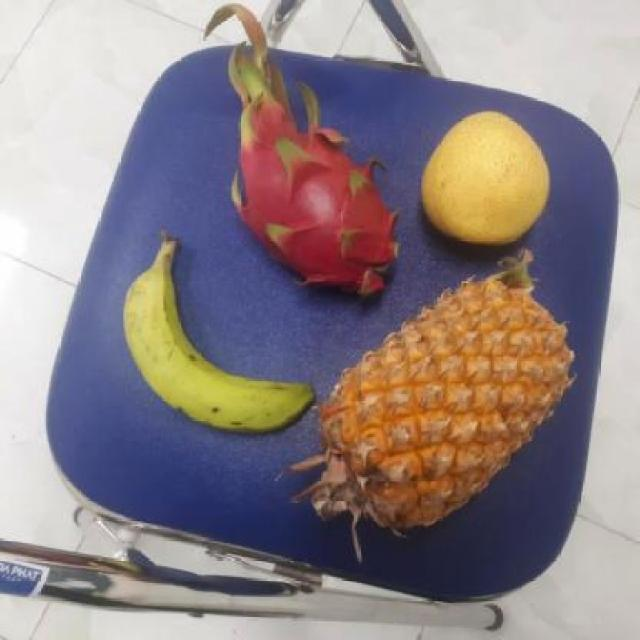banana: (119, 240, 312, 432)
dragon fruit: (228, 112, 402, 300)
pear: (412, 113, 554, 249)
pineapple: (304, 274, 554, 524)
